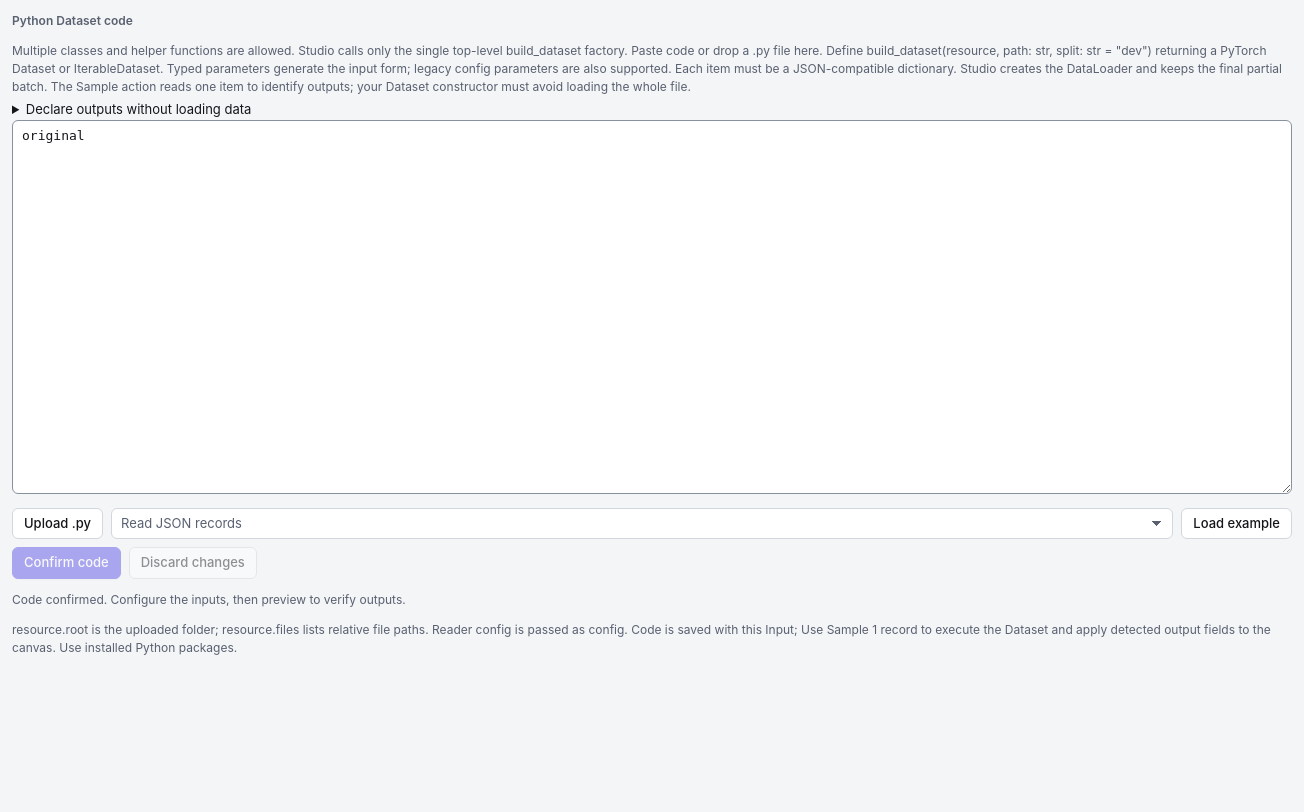
Scenario: keeps pasted edits in a draft and supports discarding them
Step 1. Replace the text in the text box labelled "Python Dataset code" with "modified" → (652, 307), box x1=12 y1=120 x2=1292 y2=494
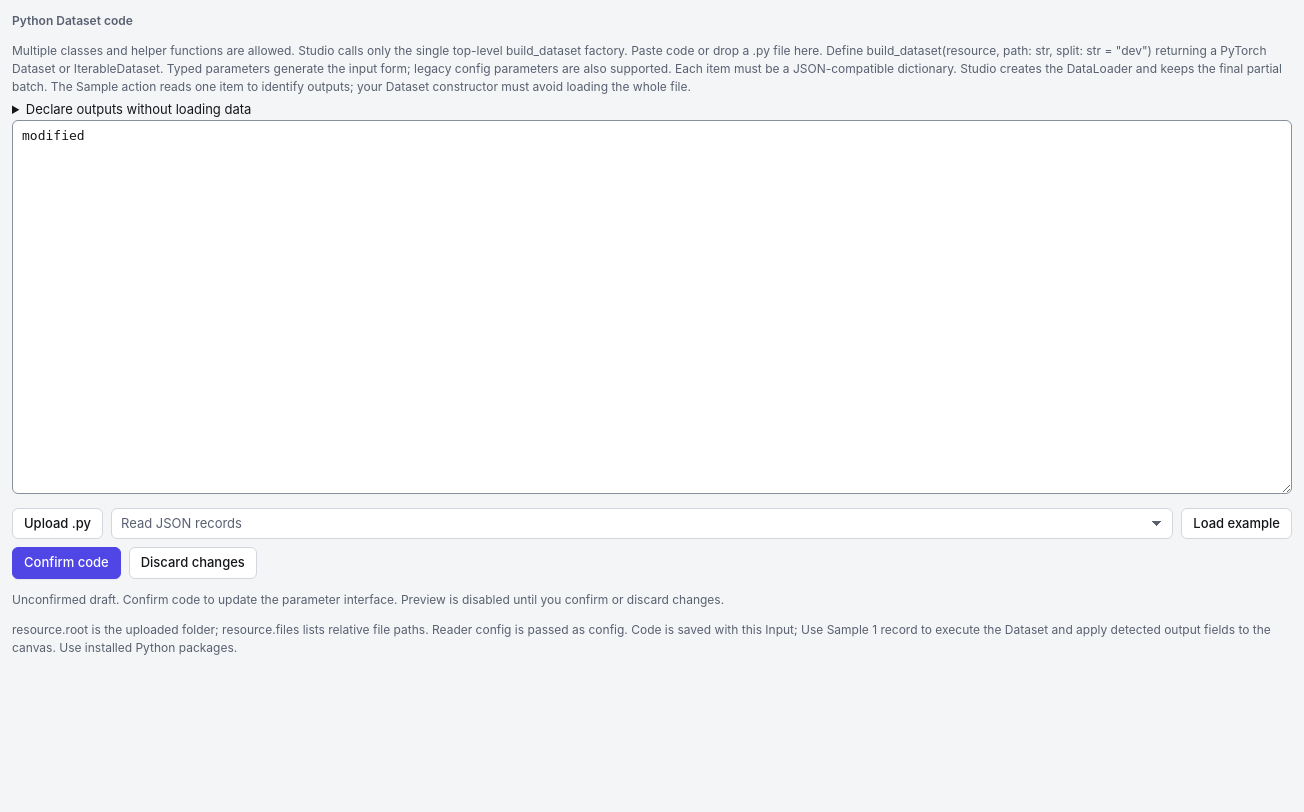
Step 2. Click the button "Discard changes" → (193, 563), box x1=129 y1=547 x2=257 y2=578
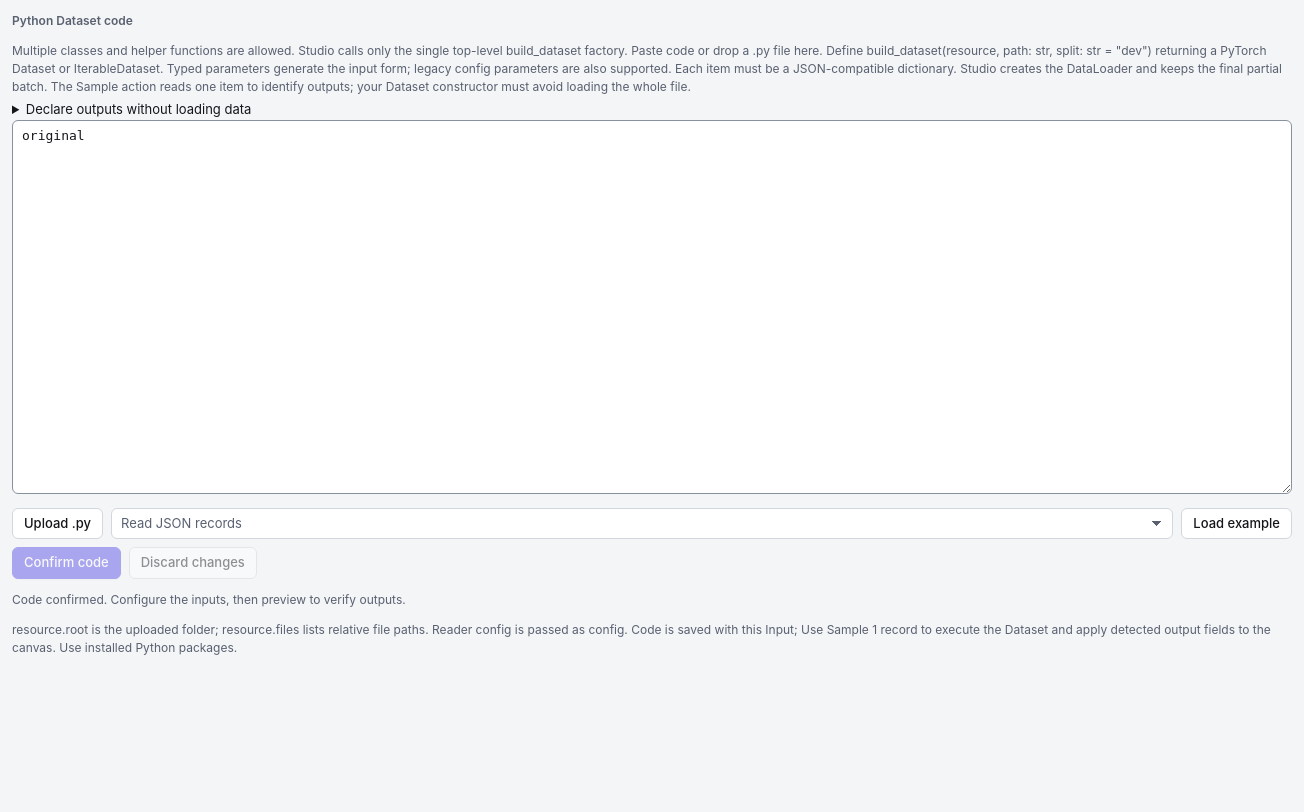
Expected: the text box labelled "Python Dataset code" holds "original", x1=12 y1=120 x2=1292 y2=494
